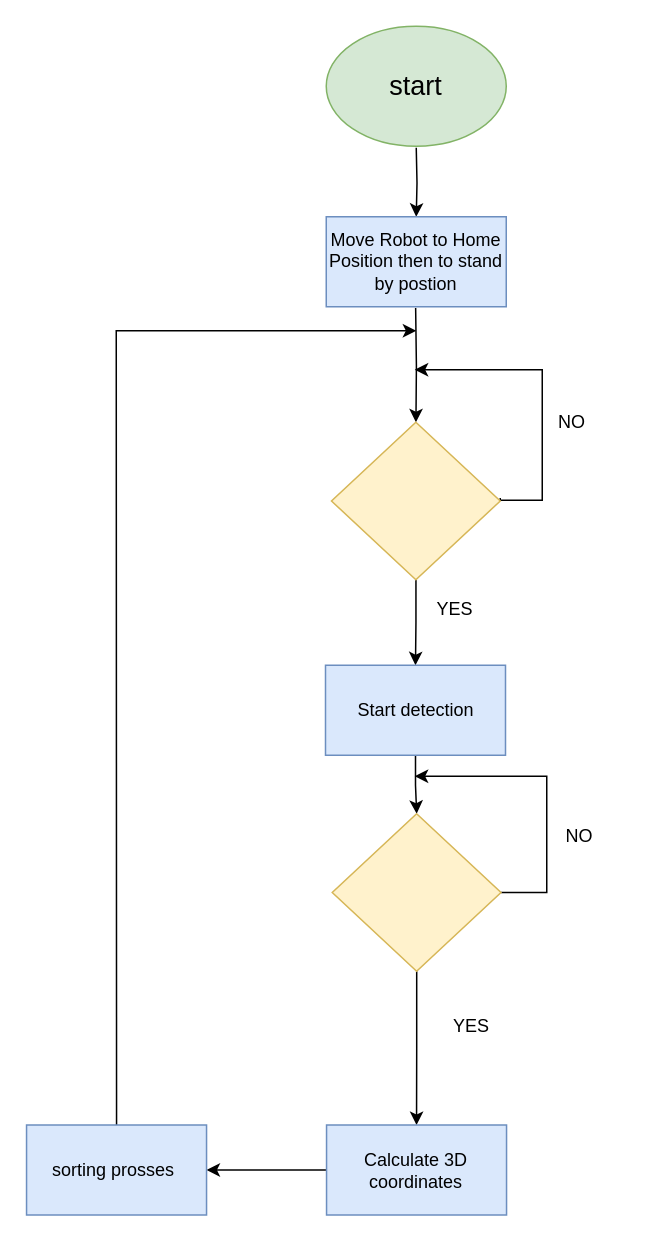
This 651x1242 diagram has some shape labels left out. The centre of each missing label's shape, as x and y in pixels:
"Detect" belongs at [416,891].
"label resived from NIR" belongs at [415,500].
